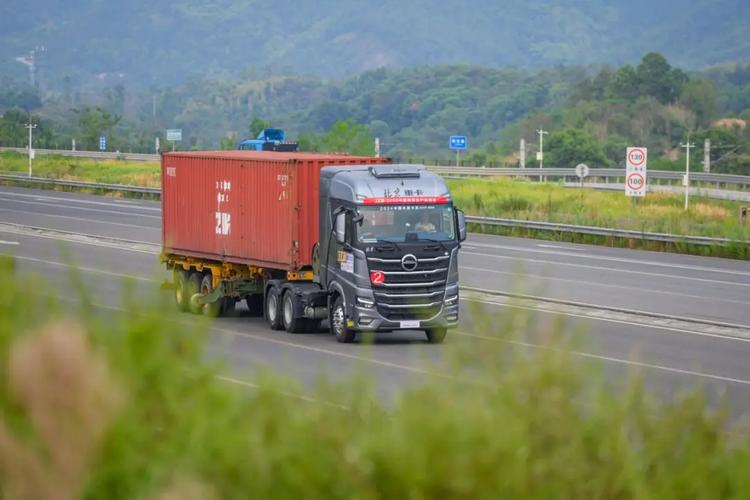卡车: (144, 136, 462, 367)
